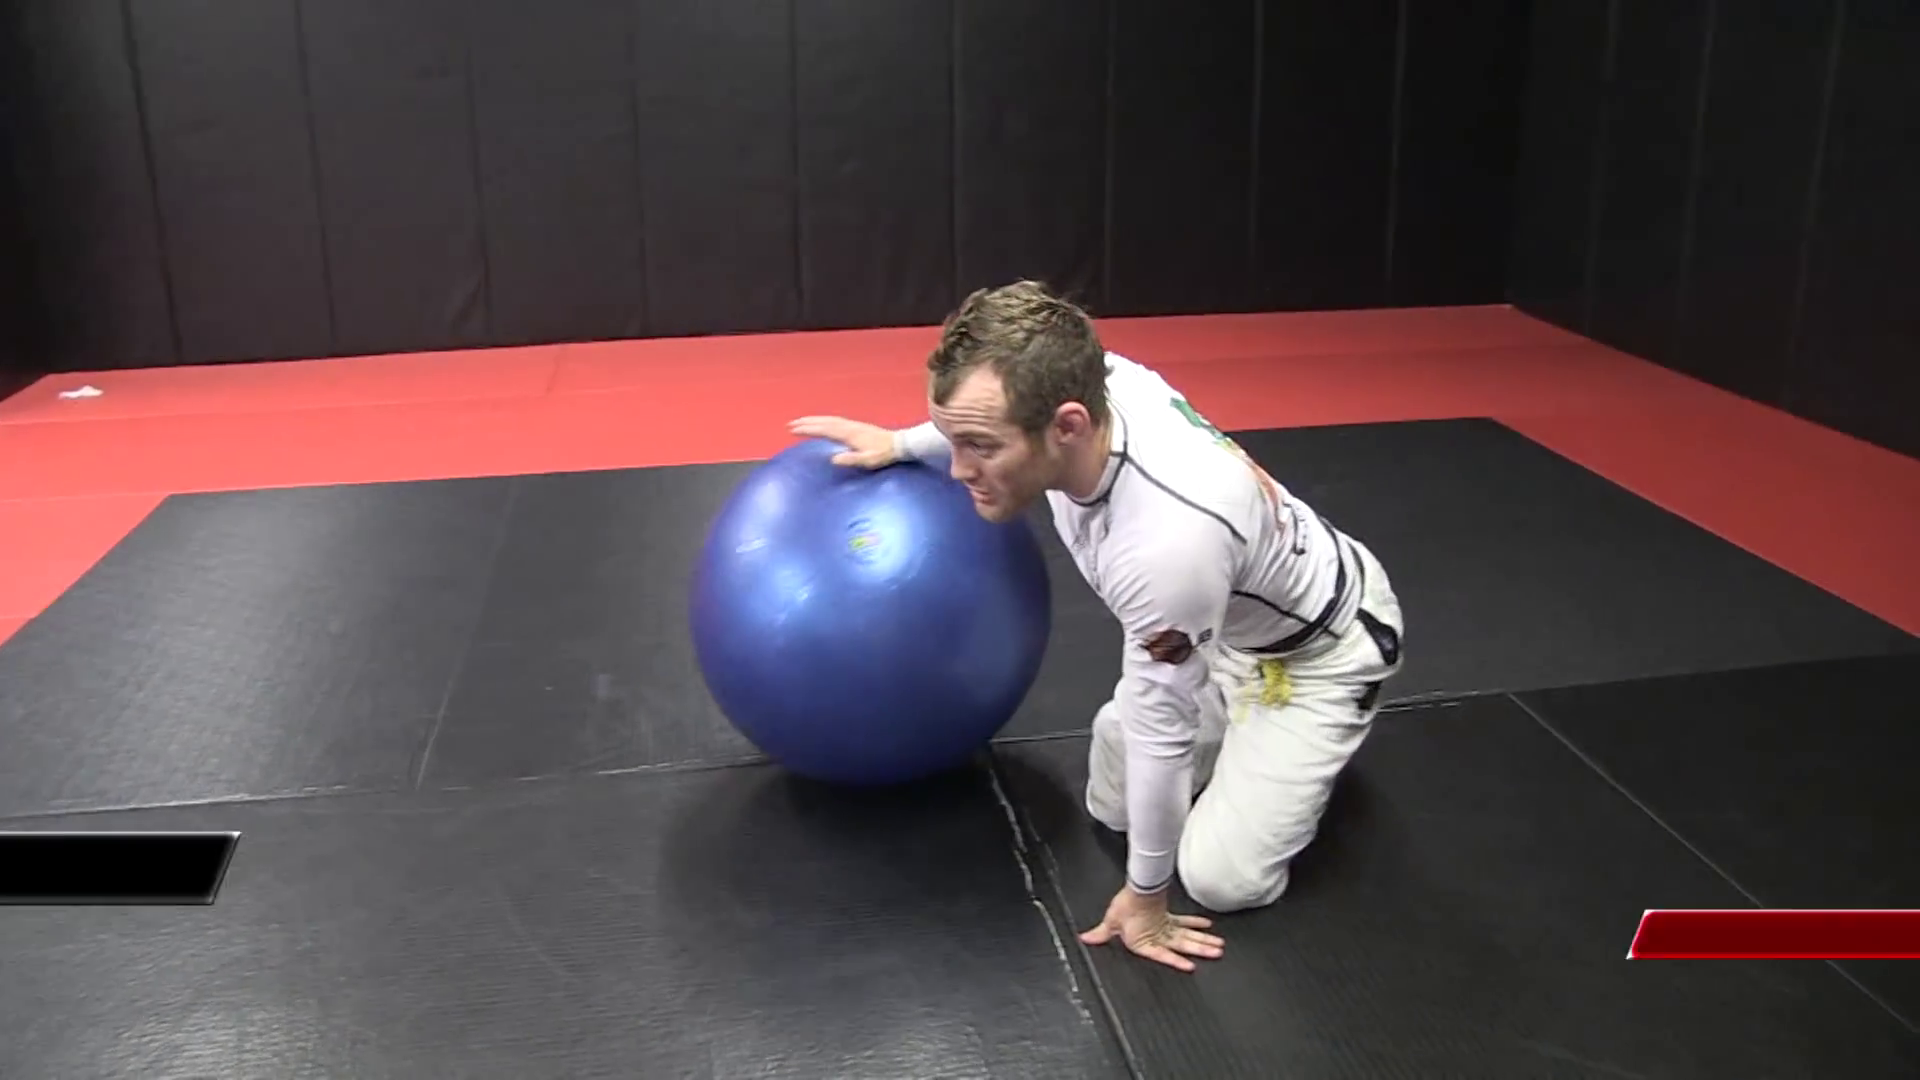yogaball: (680, 430, 1058, 814)
